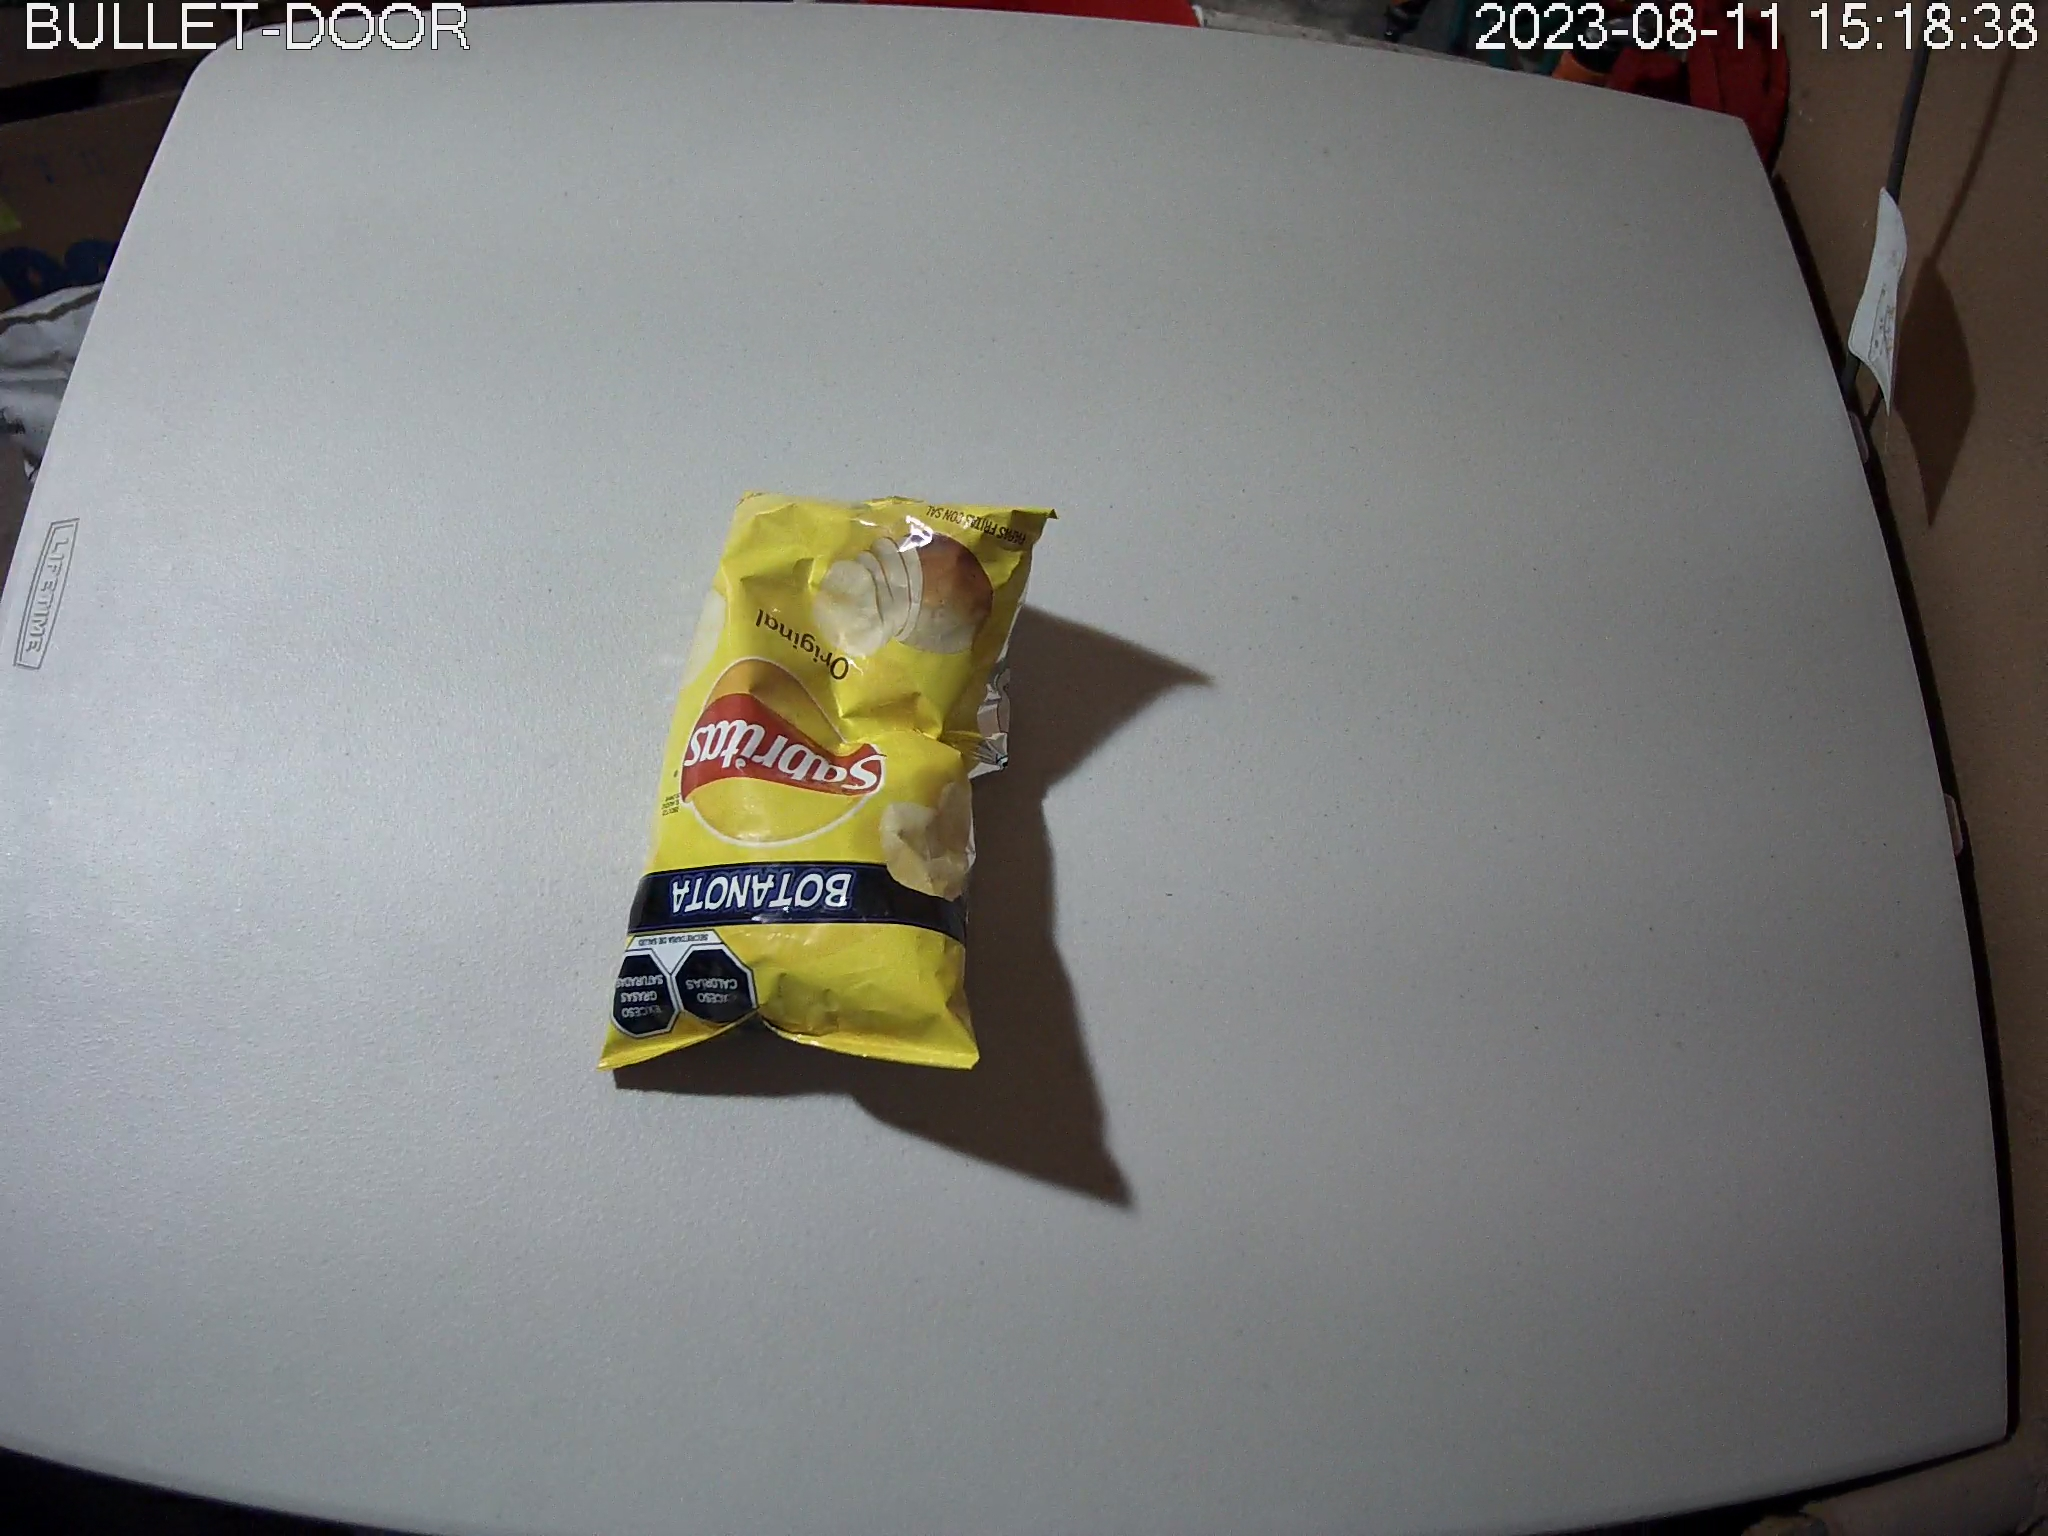Sabritas_64_F: (597, 490, 1063, 1075)
